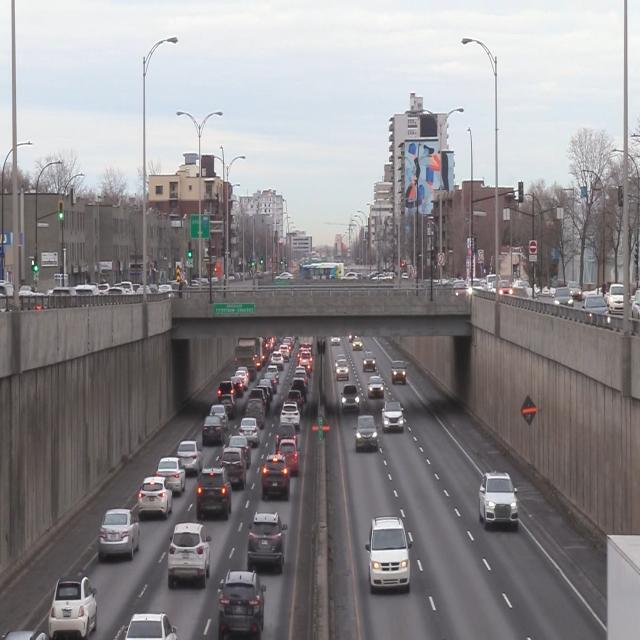Vehicle: (366, 514, 412, 594), (48, 576, 98, 640), (216, 573, 267, 635), (165, 521, 211, 589), (478, 469, 520, 531), (245, 516, 287, 570), (97, 510, 138, 562), (195, 466, 232, 519), (137, 475, 173, 519), (260, 456, 290, 501), (157, 456, 184, 495), (221, 448, 246, 486), (176, 439, 202, 474), (355, 413, 377, 450), (380, 400, 404, 433), (201, 416, 222, 447), (341, 384, 360, 411)
